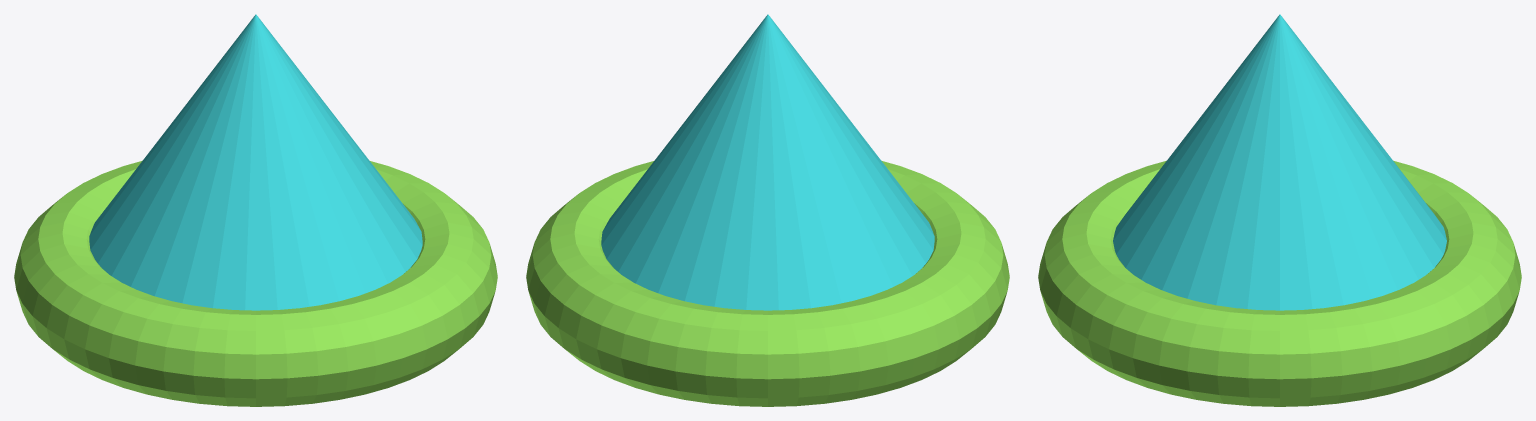
3 views of the same model, side by side, from view 1: azimuth 30°, elevation 25°; view 2: azimuth 150°, elevation 25°; view 3: azimuth 270°, elevation 25° (orthographic).
Visible parts, largest first — view 1: Cone, Torus; view 2: Cone, Torus; view 3: Cone, Torus.
Boxes of the visible parts, <box> form: Cone: <box>89,14,422,310</box>; Torus: <box>14,160,497,406</box>; Cone: <box>601,14,934,310</box>; Torus: <box>526,160,1009,406</box>; Cone: <box>1113,14,1446,310</box>; Torus: <box>1038,160,1521,406</box>.
Size of the model in its own units: 250 by 175 by 250.
